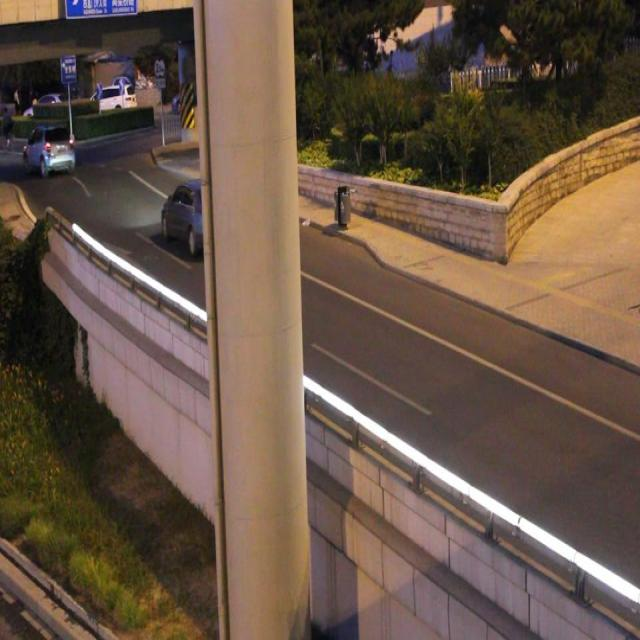car: (163, 182, 224, 248), (24, 126, 74, 173)
